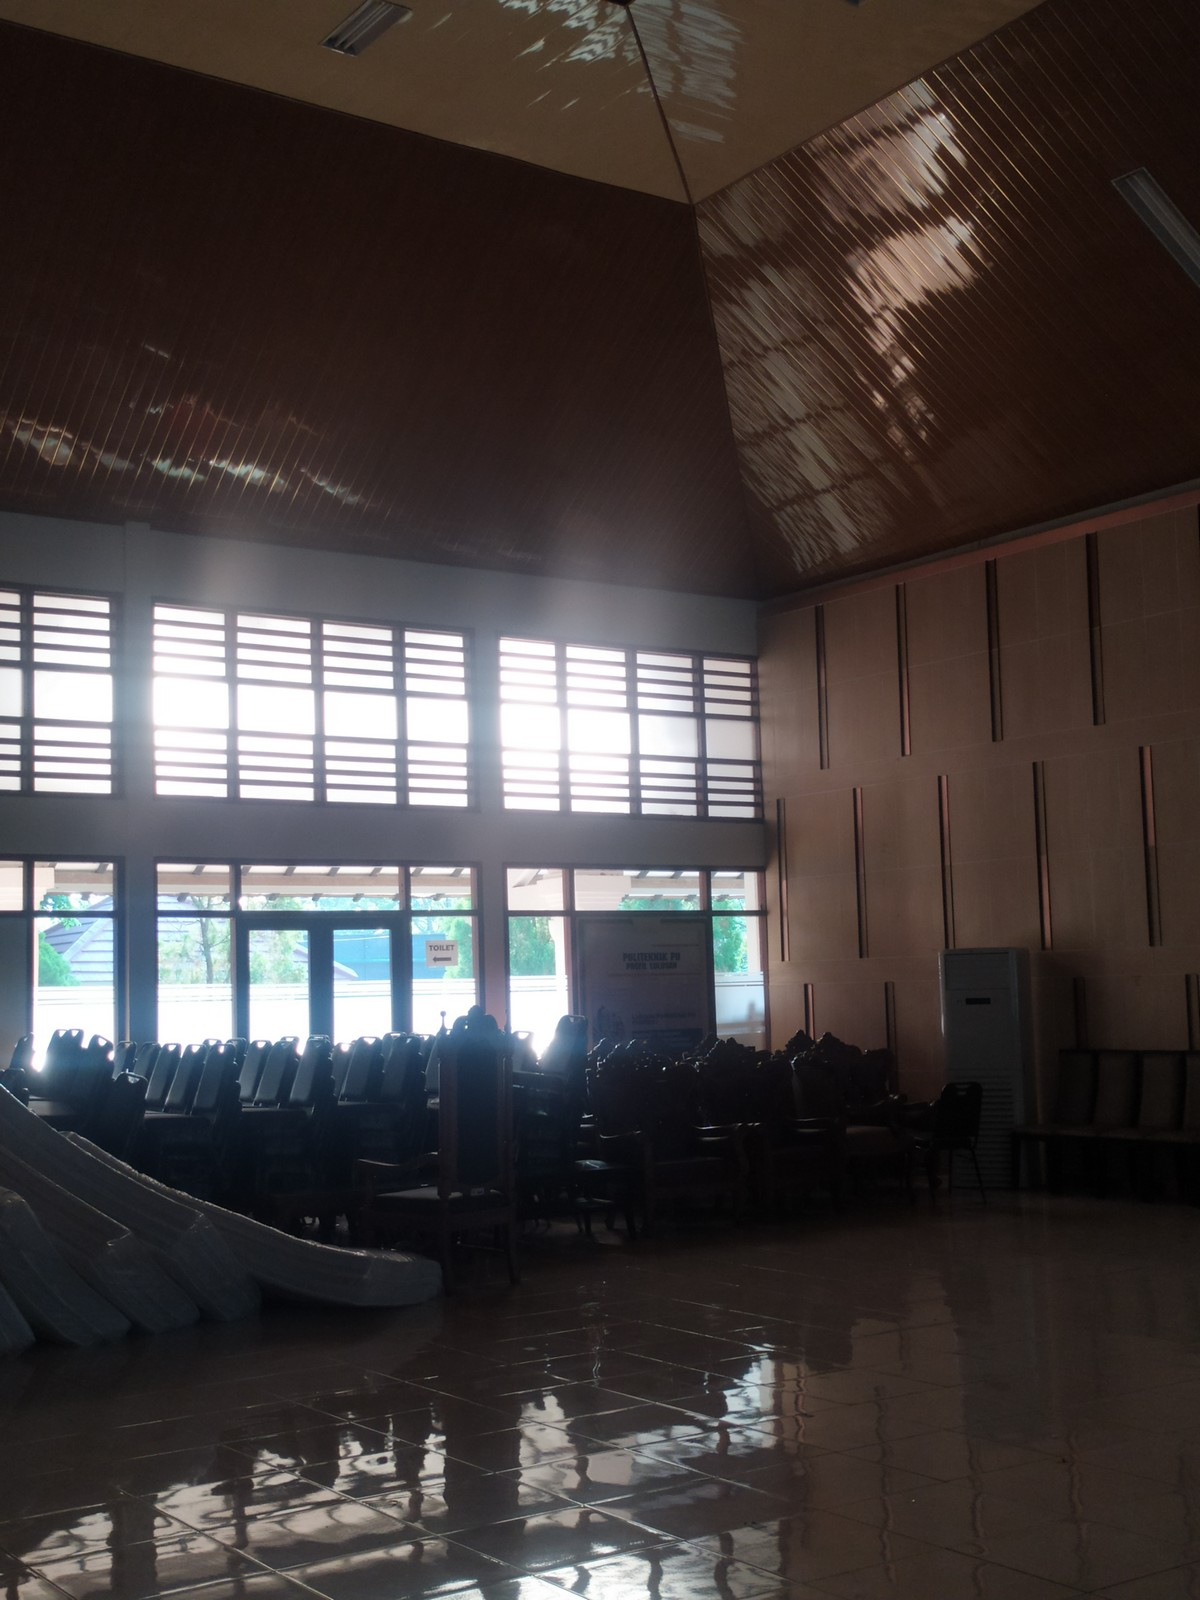concrete column: (112, 513, 165, 1039)
